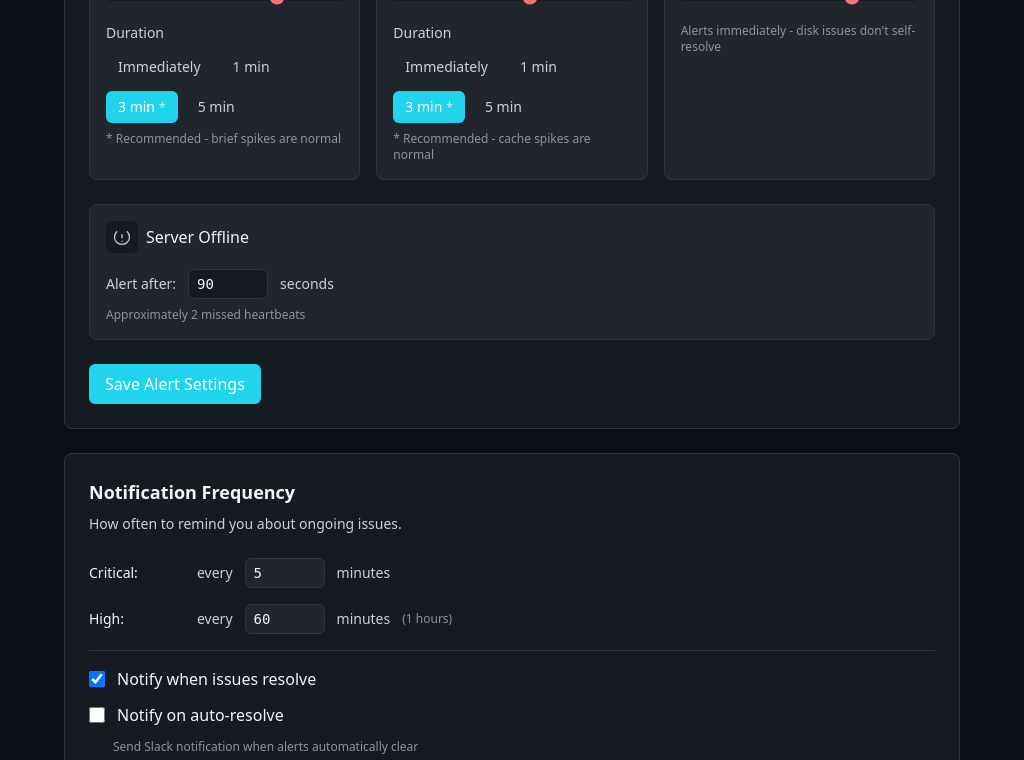
Scenario: Settings › Thresholds card › shows error toast when save fails
(page scrolled)
Click the button with test id "save-thresholds-button".
click(175, 384)  # box [89, 364, 261, 404]
(page scrolled)
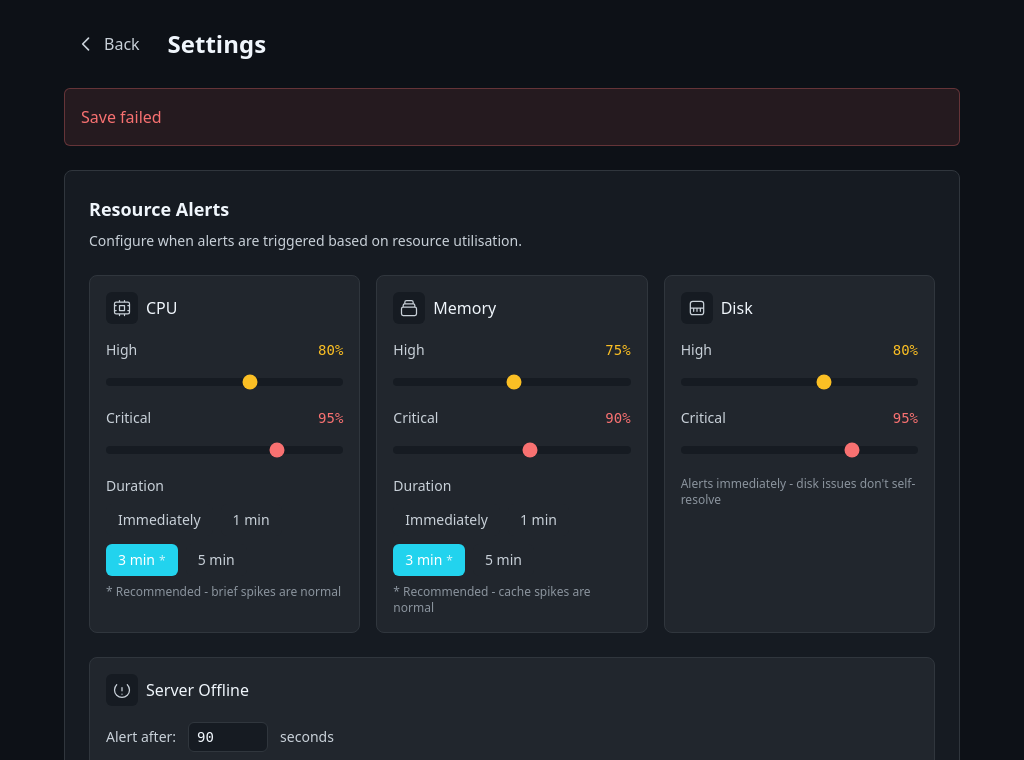
Expected: the text "Save failed" is shown, [64, 88, 960, 146]
